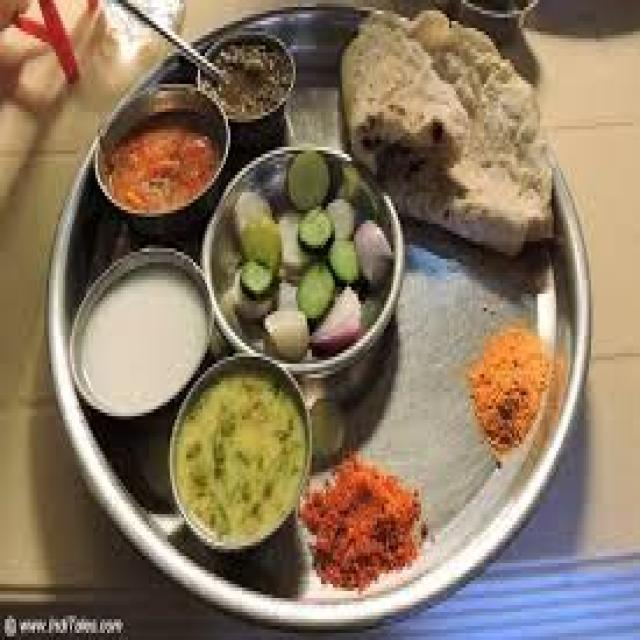papad: (333, 4, 551, 232)
pickle: (450, 310, 566, 463)
roti: (337, 9, 553, 230)
sambar-rasam: (64, 254, 219, 424), (93, 87, 234, 229)
sweet: (208, 35, 294, 125)
veg-fry: (290, 450, 434, 604), (454, 307, 568, 464)
